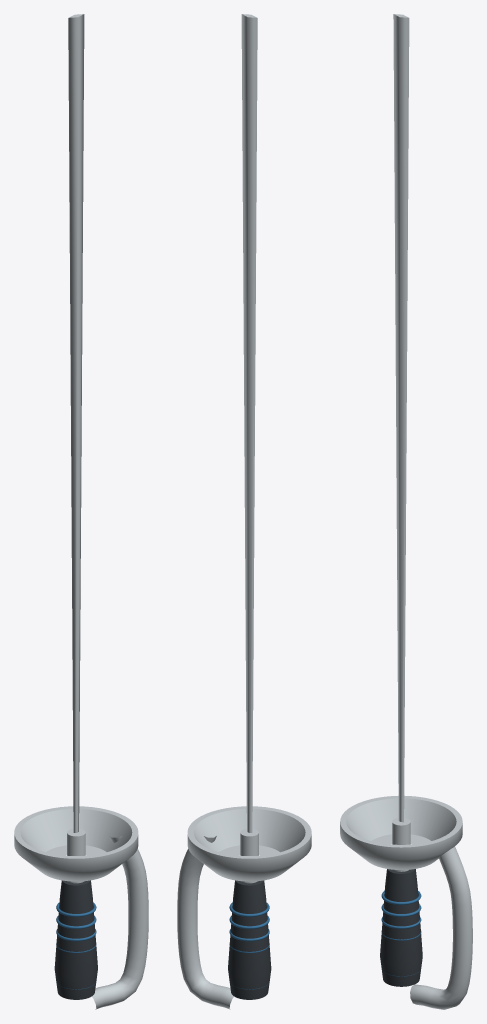
Rendered from fencing-club-and-tournament-piste-sabre-4bdecef0__31223.glb.
3 views of the same model, side by side, from view 1: azimuth 30°, elevation 25°; view 2: azimuth 150°, elevation 25°; view 3: azimuth 330°, elevation 25° (orthographic).
Parts seen in each view (by area): view 1: sabre; view 2: sabre; view 3: sabre.
Part boxes in pixels (x1,y1,x2,y2): sabre: (14, 14, 148, 1009); sabre: (177, 14, 311, 1009); sabre: (340, 14, 472, 1009).
Bounding box in the file's own units: 0.139 × 1.06 × 0.1199.
